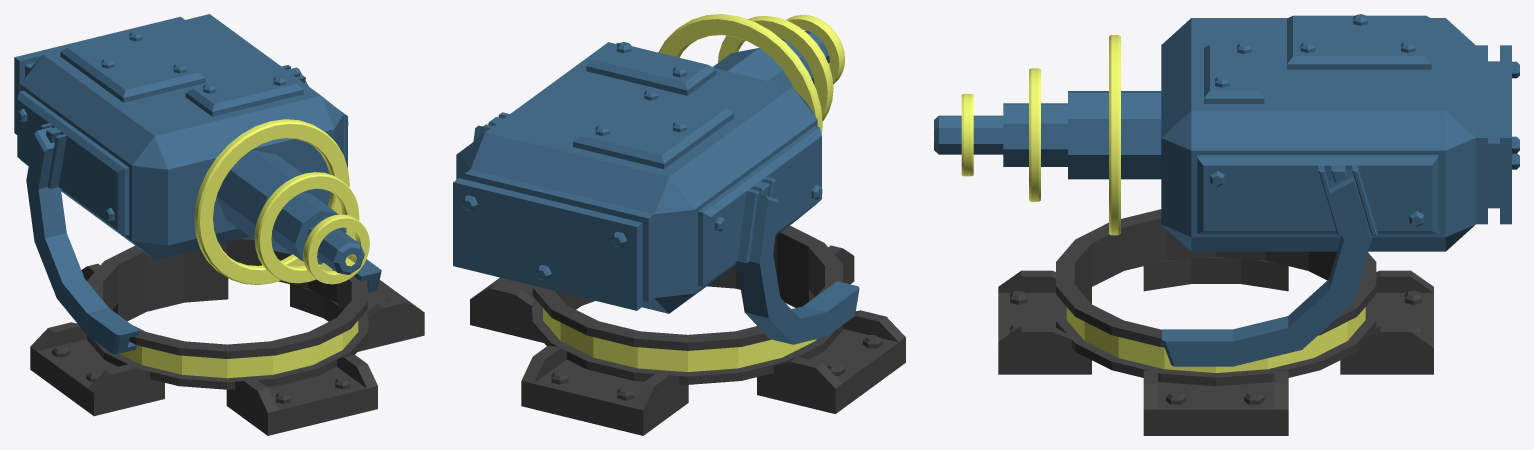
The model's file is Lazer.fbx.
3 views of the same model, side by side, from view 1: azimuth 30°, elevation 25°; view 2: azimuth 150°, elevation 25°; view 3: azimuth 270°, elevation 25° (orthographic). The views are drawn at different scales.
Parts seen in each view (by area): view 1: LazerTower, LazerBase; view 2: LazerTower, LazerBase; view 3: LazerTower, LazerBase.
Part boxes in pixels (bbox=[...]): LazerTower: bbox=[14, 14, 381, 354]; LazerBase: bbox=[30, 237, 424, 435]; LazerTower: bbox=[453, 14, 859, 344]; LazerBase: bbox=[470, 225, 905, 435]; LazerTower: bbox=[934, 14, 1519, 366]; LazerBase: bbox=[998, 209, 1433, 435].
Bounding box in the file's own units: 76.2 × 57.83 × 102.
